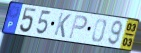0: (91, 18, 108, 44)
5: (20, 7, 38, 34), (35, 10, 52, 36)
9: (107, 20, 124, 46)
K: (53, 12, 72, 39)
P: (67, 14, 88, 40)
